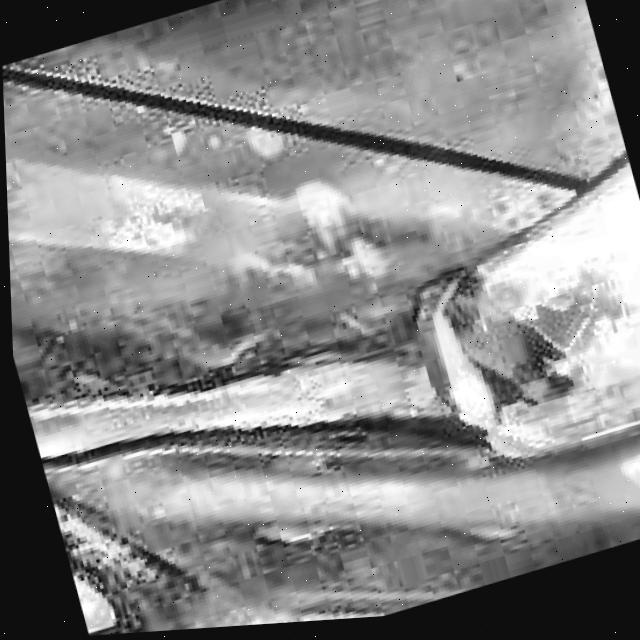bumper_dent: (8, 199, 441, 480)
head_lamp: (414, 167, 640, 487)
